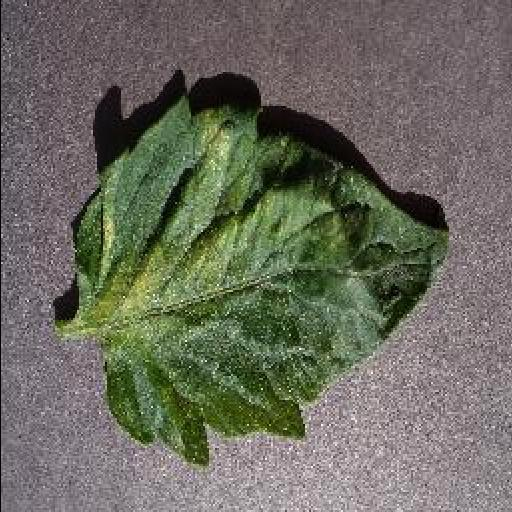disease_tomato: (74, 98, 454, 464)
